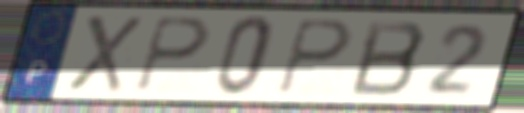0: (214, 14, 280, 99)
2: (421, 22, 494, 97)
B: (347, 18, 431, 98)
P: (132, 14, 213, 95), (275, 17, 355, 97)
X: (63, 13, 145, 95)
